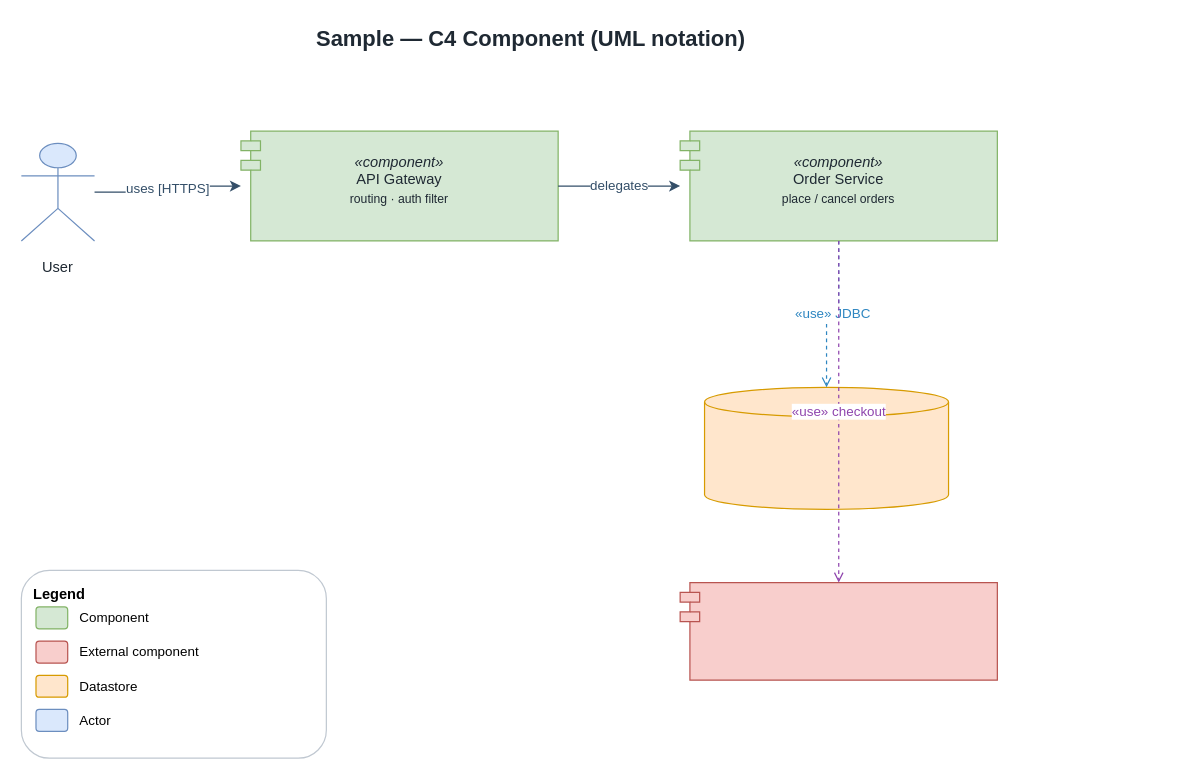
Some shapes in this 1190 by 780 pixel diagram are drawn without their labels. The shapes that lost their labels are listed below. From the top down, each one's box as (x1, y1, x2, y2) in pixels, then its label:
(703, 386, 949, 509): «database» PostgreSQL
(679, 581, 997, 680): «external component» Stripe card payments
